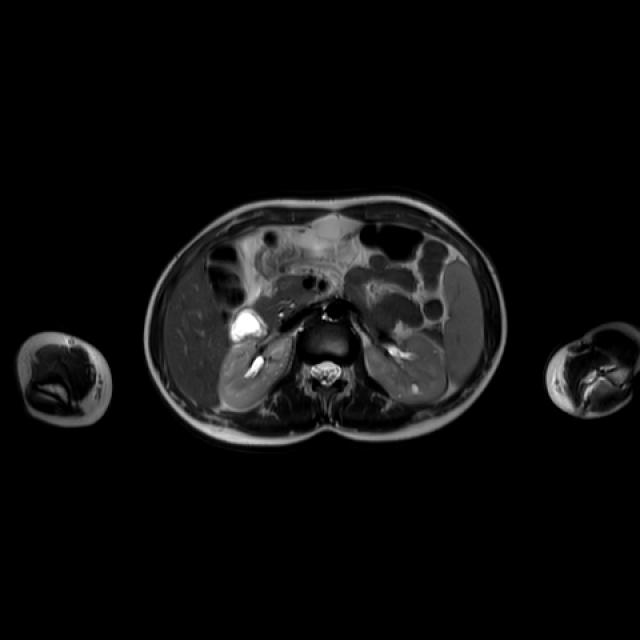sag: (217, 336, 297, 410)
sol: (367, 335, 448, 403)
